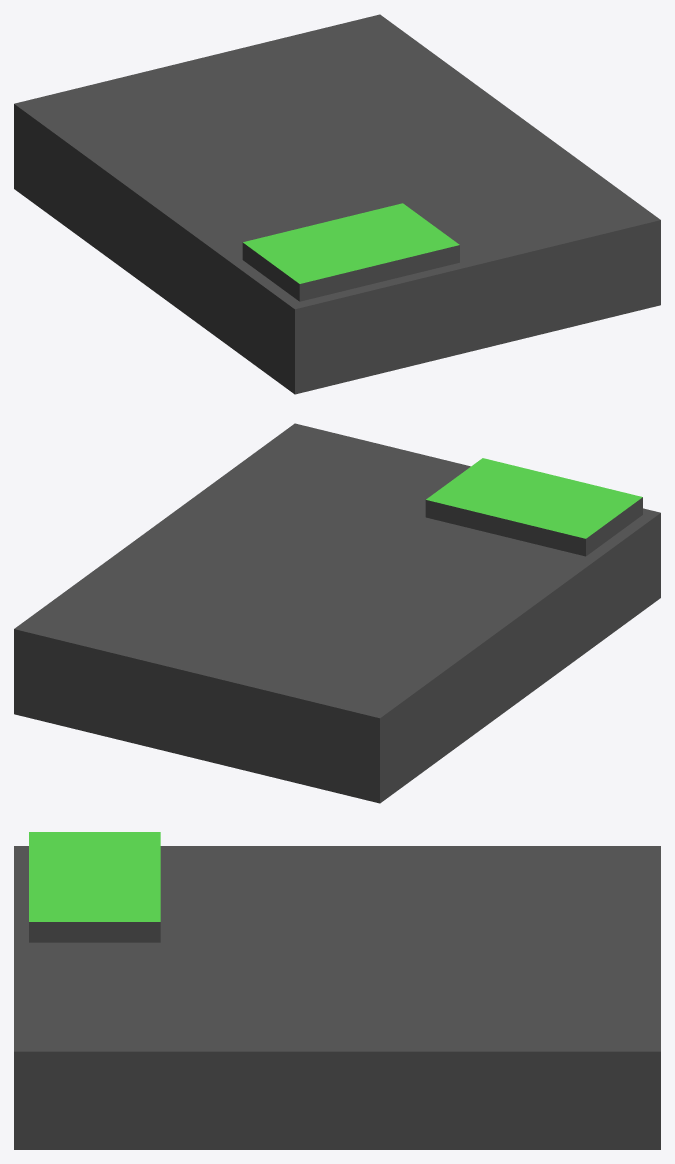
The model's file is Engine1.fbx.
The picture shows the model from 3 angles, top to bottom: view 1: azimuth 30°, elevation 25°; view 2: azimuth 150°, elevation 25°; view 3: azimuth 270°, elevation 25°; orthographic projection. The views are drawn at different scales.
Visible parts, largest first — view 1: Cube; view 2: Cube; view 3: Cube.
Part boxes in pixels (x1,y1,x2,y2): Cube: (14, 14, 660, 394); Cube: (14, 423, 660, 803); Cube: (14, 832, 660, 1149).
Size of the model in its own units: 90.04 by 24.18 by 120.
